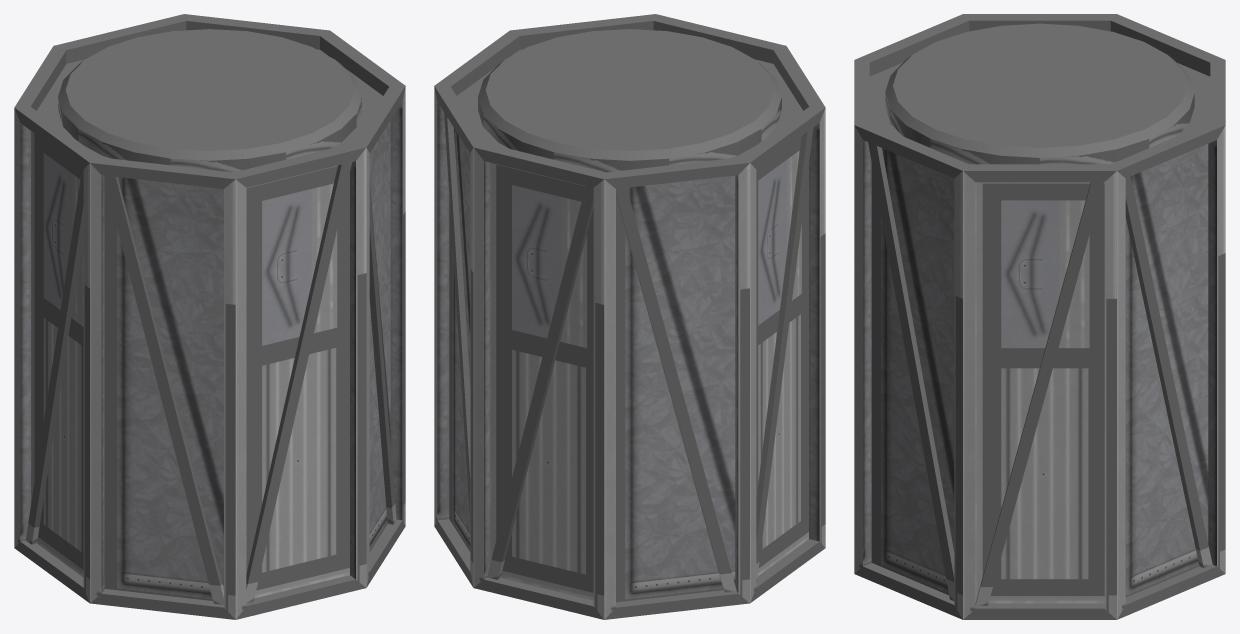
The model's file is nashira_truss_s1_1.obj.
The picture shows the model from 3 angles, left to right: view 1: azimuth 30°, elevation 25°; view 2: azimuth 150°, elevation 25°; view 3: azimuth 270°, elevation 25°; orthographic projection.
Parts seen in each view (by area): view 1: nashira_truss_s1_1; view 2: nashira_truss_s1_1; view 3: nashira_truss_s1_1.
Boxes of the visible parts, x1=… form: nashira_truss_s1_1: x1=14, y1=14, x2=405, y2=619; nashira_truss_s1_1: x1=434, y1=14, x2=825, y2=619; nashira_truss_s1_1: x1=854, y1=14, x2=1225, y2=619.
Size of the model in its own units: 1.5 by 2.06 by 1.5.
